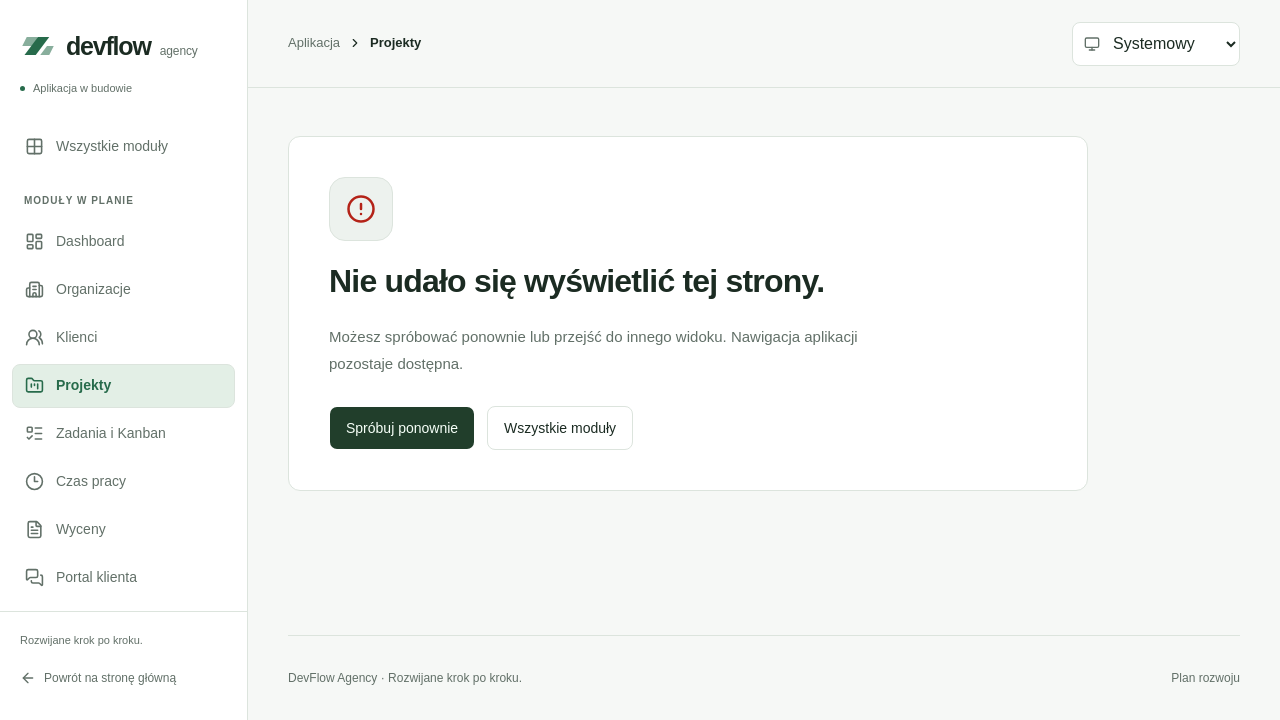
Scenario: Error recovery › retries a page in place and restores its title and focus
Click the button "Spróbuj ponownie" at (402, 428), box [329, 406, 475, 450]
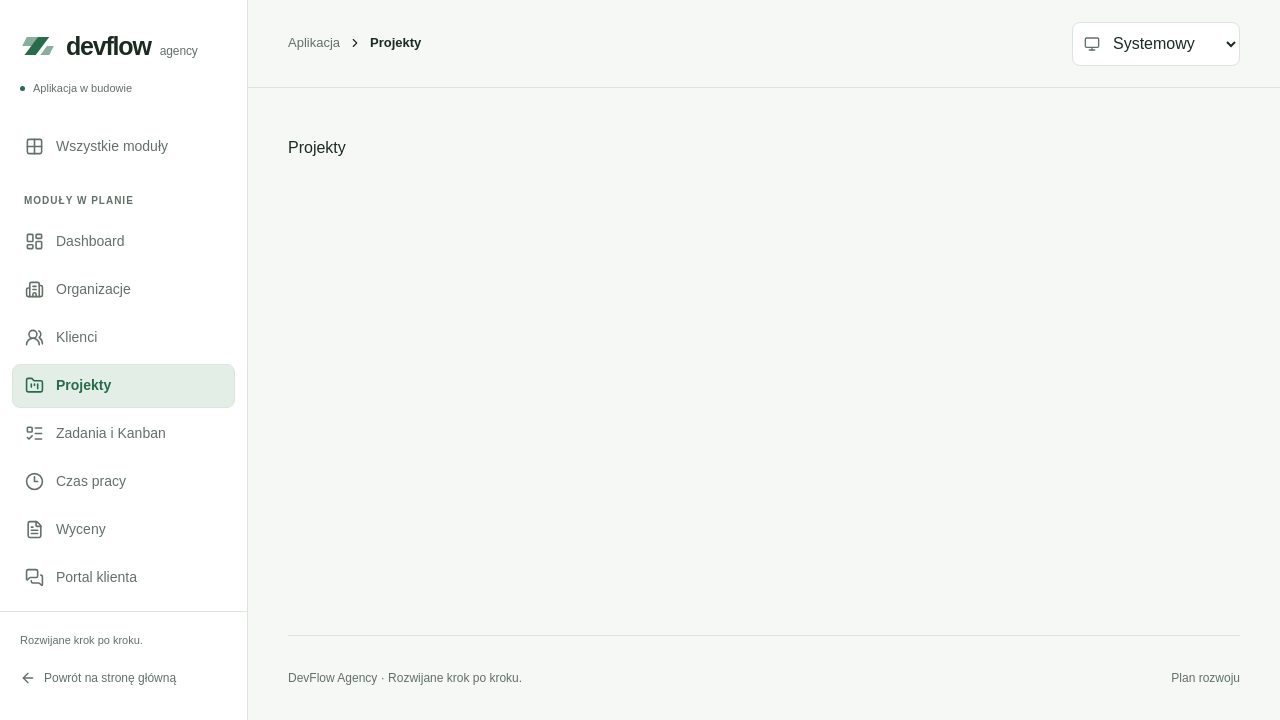
Check: the heading reads "Projekty", box [288, 139, 346, 156]
